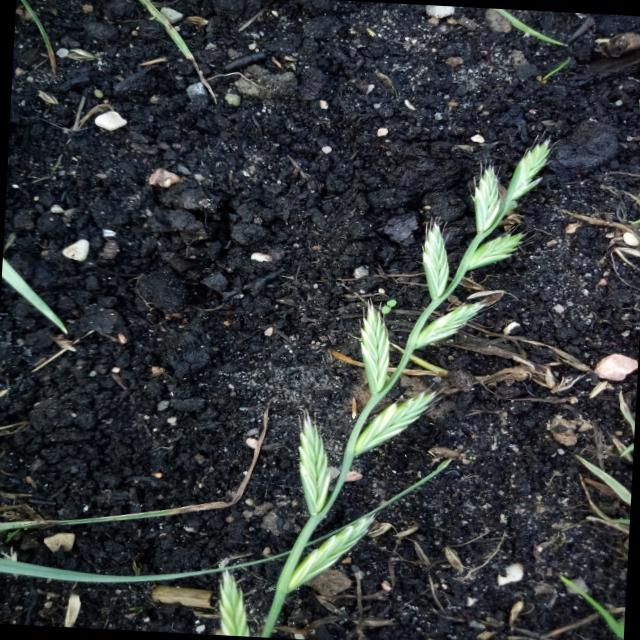Lolium: (254, 122, 559, 640)
